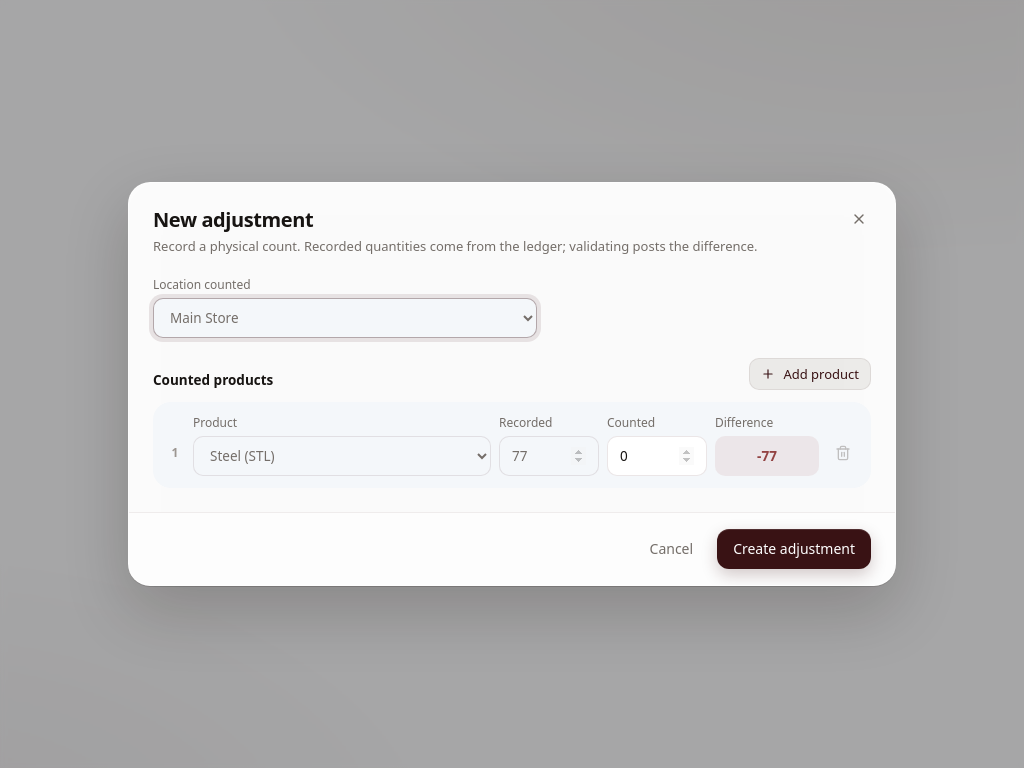
CreateAdjustmentModal recorded quantity › shows 0 for a product with no stock at the location
Check: the number field labelled "Recorded" holds "77", box [499,436,599,476]
Select "Bolts (BLT)" in the dropdown labelled "Product" at (342, 456), box [193,436,491,476]
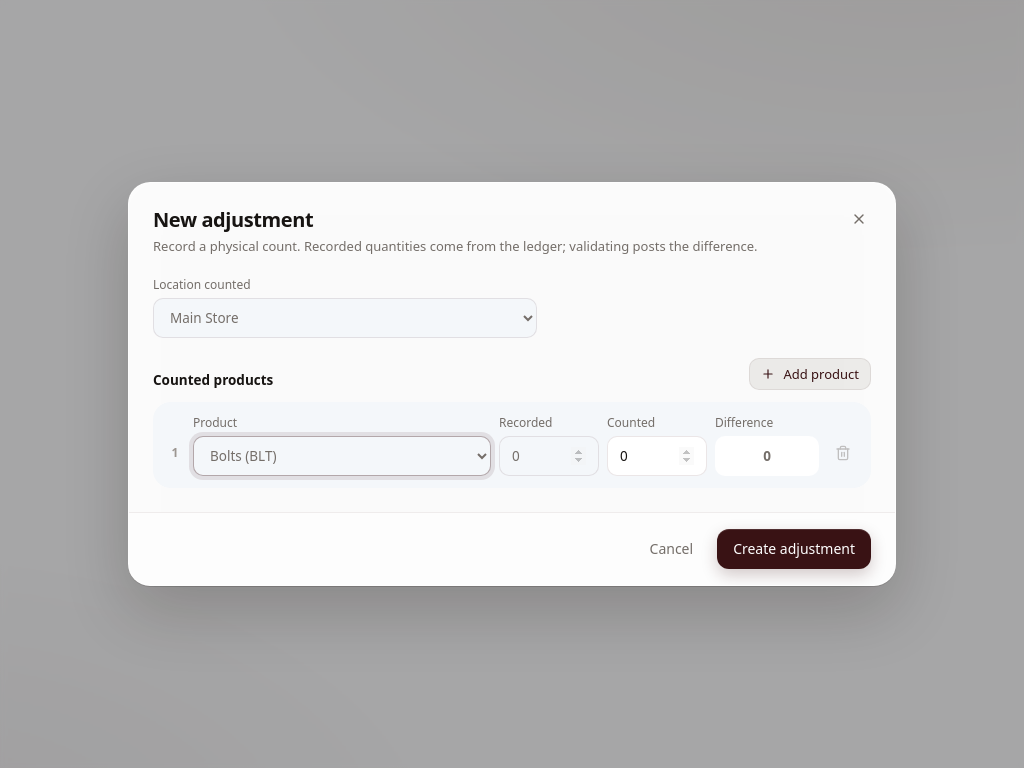
Check: the number field labelled "Recorded" holds "0", box [499,436,599,476]
